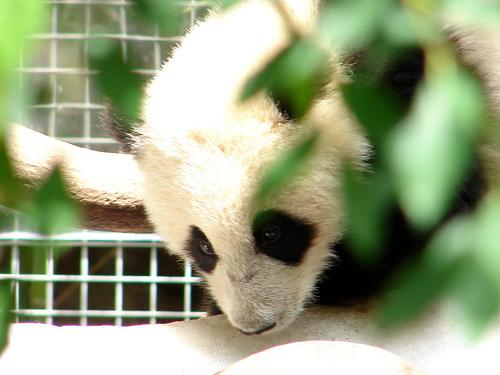panda: (124, 0, 370, 333)
